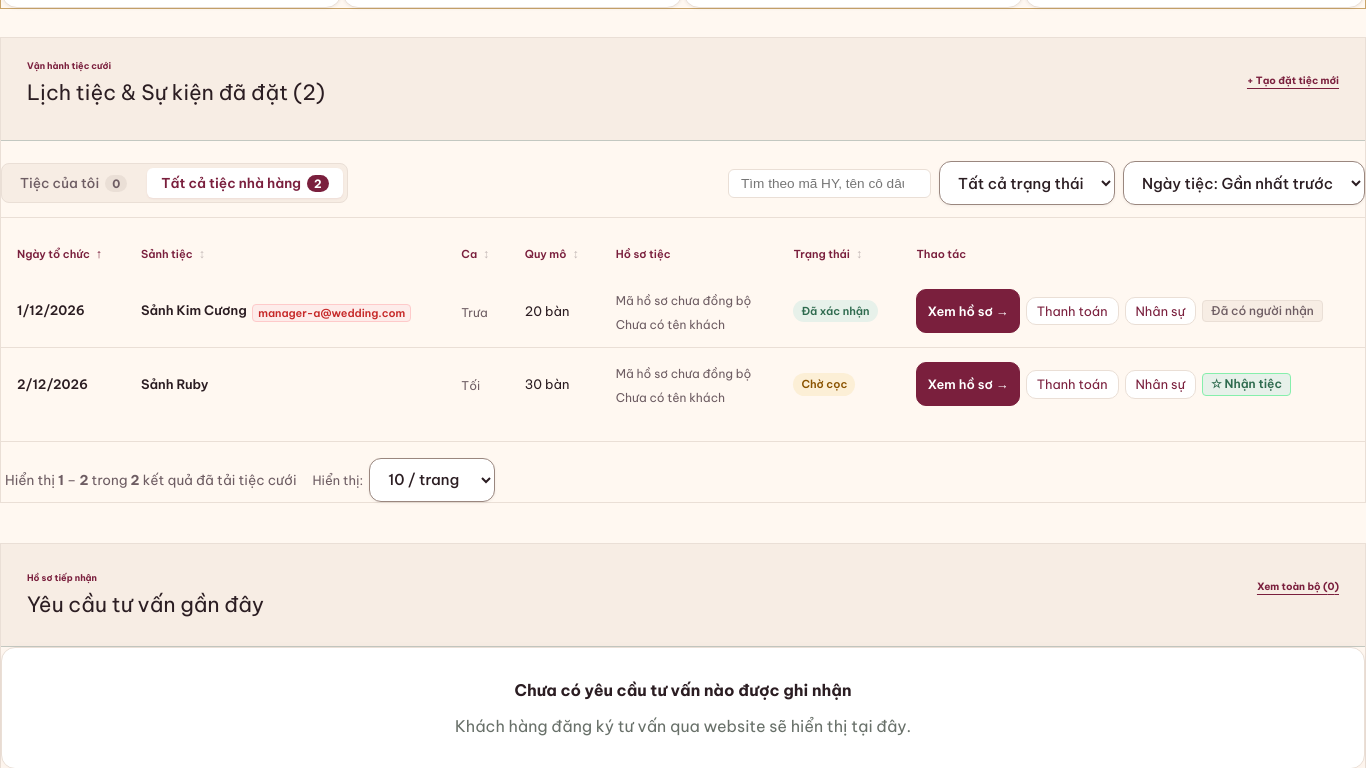
Test: Booking assignment locking and synchronization › DashboardLiveView locking presentation › renders disabled lock button for bookings claimed by another manager and enables claiming unassigned ones
The width and height of the screenshot is (1366, 768).
(page scrolled)
expect the text "Sảnh Kim Cương" is shown: met, box [141, 302, 247, 320]
expect the text "Sảnh Ruby" is shown: met, box [141, 376, 208, 393]
// Manager B clicks "☆ Nhận tiệc" on Booking 2
Click the button "☆ Nhận tiệc" at point(1246, 384), box [1202, 373, 1291, 396]
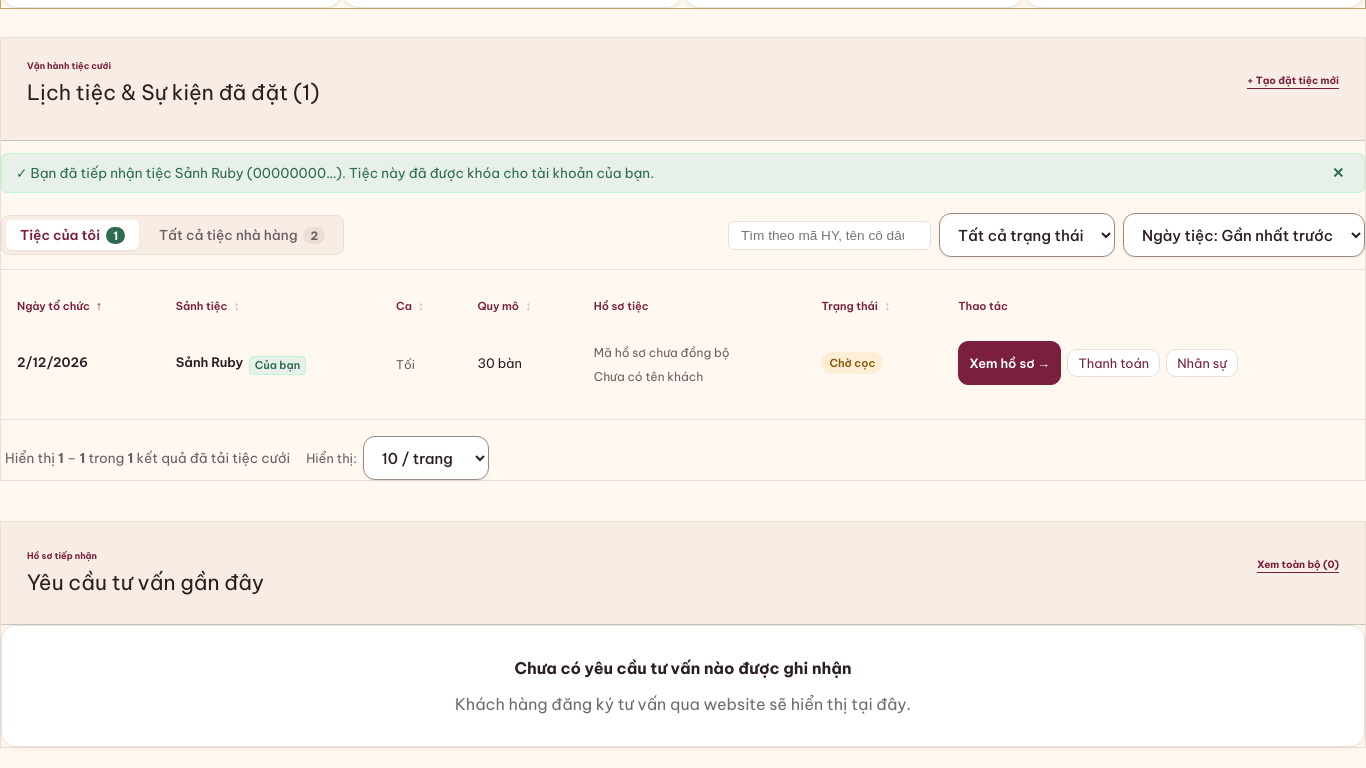
expect the text "Bạn đã tiếp nhận tiệc Sảnh Ruby" is shown: met, box [16, 164, 654, 182]
expect the text "Của bạn" is shown: met, box [249, 356, 306, 374]
